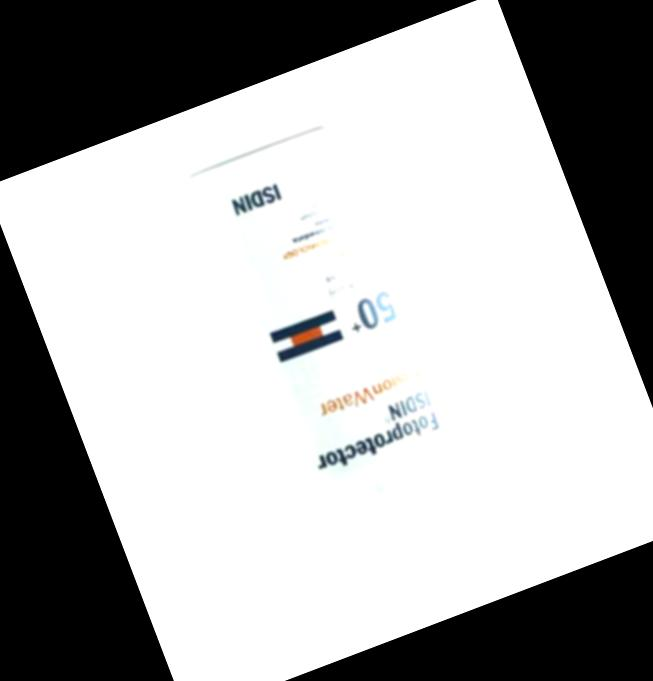cosmetic: (168, 115, 502, 605)
